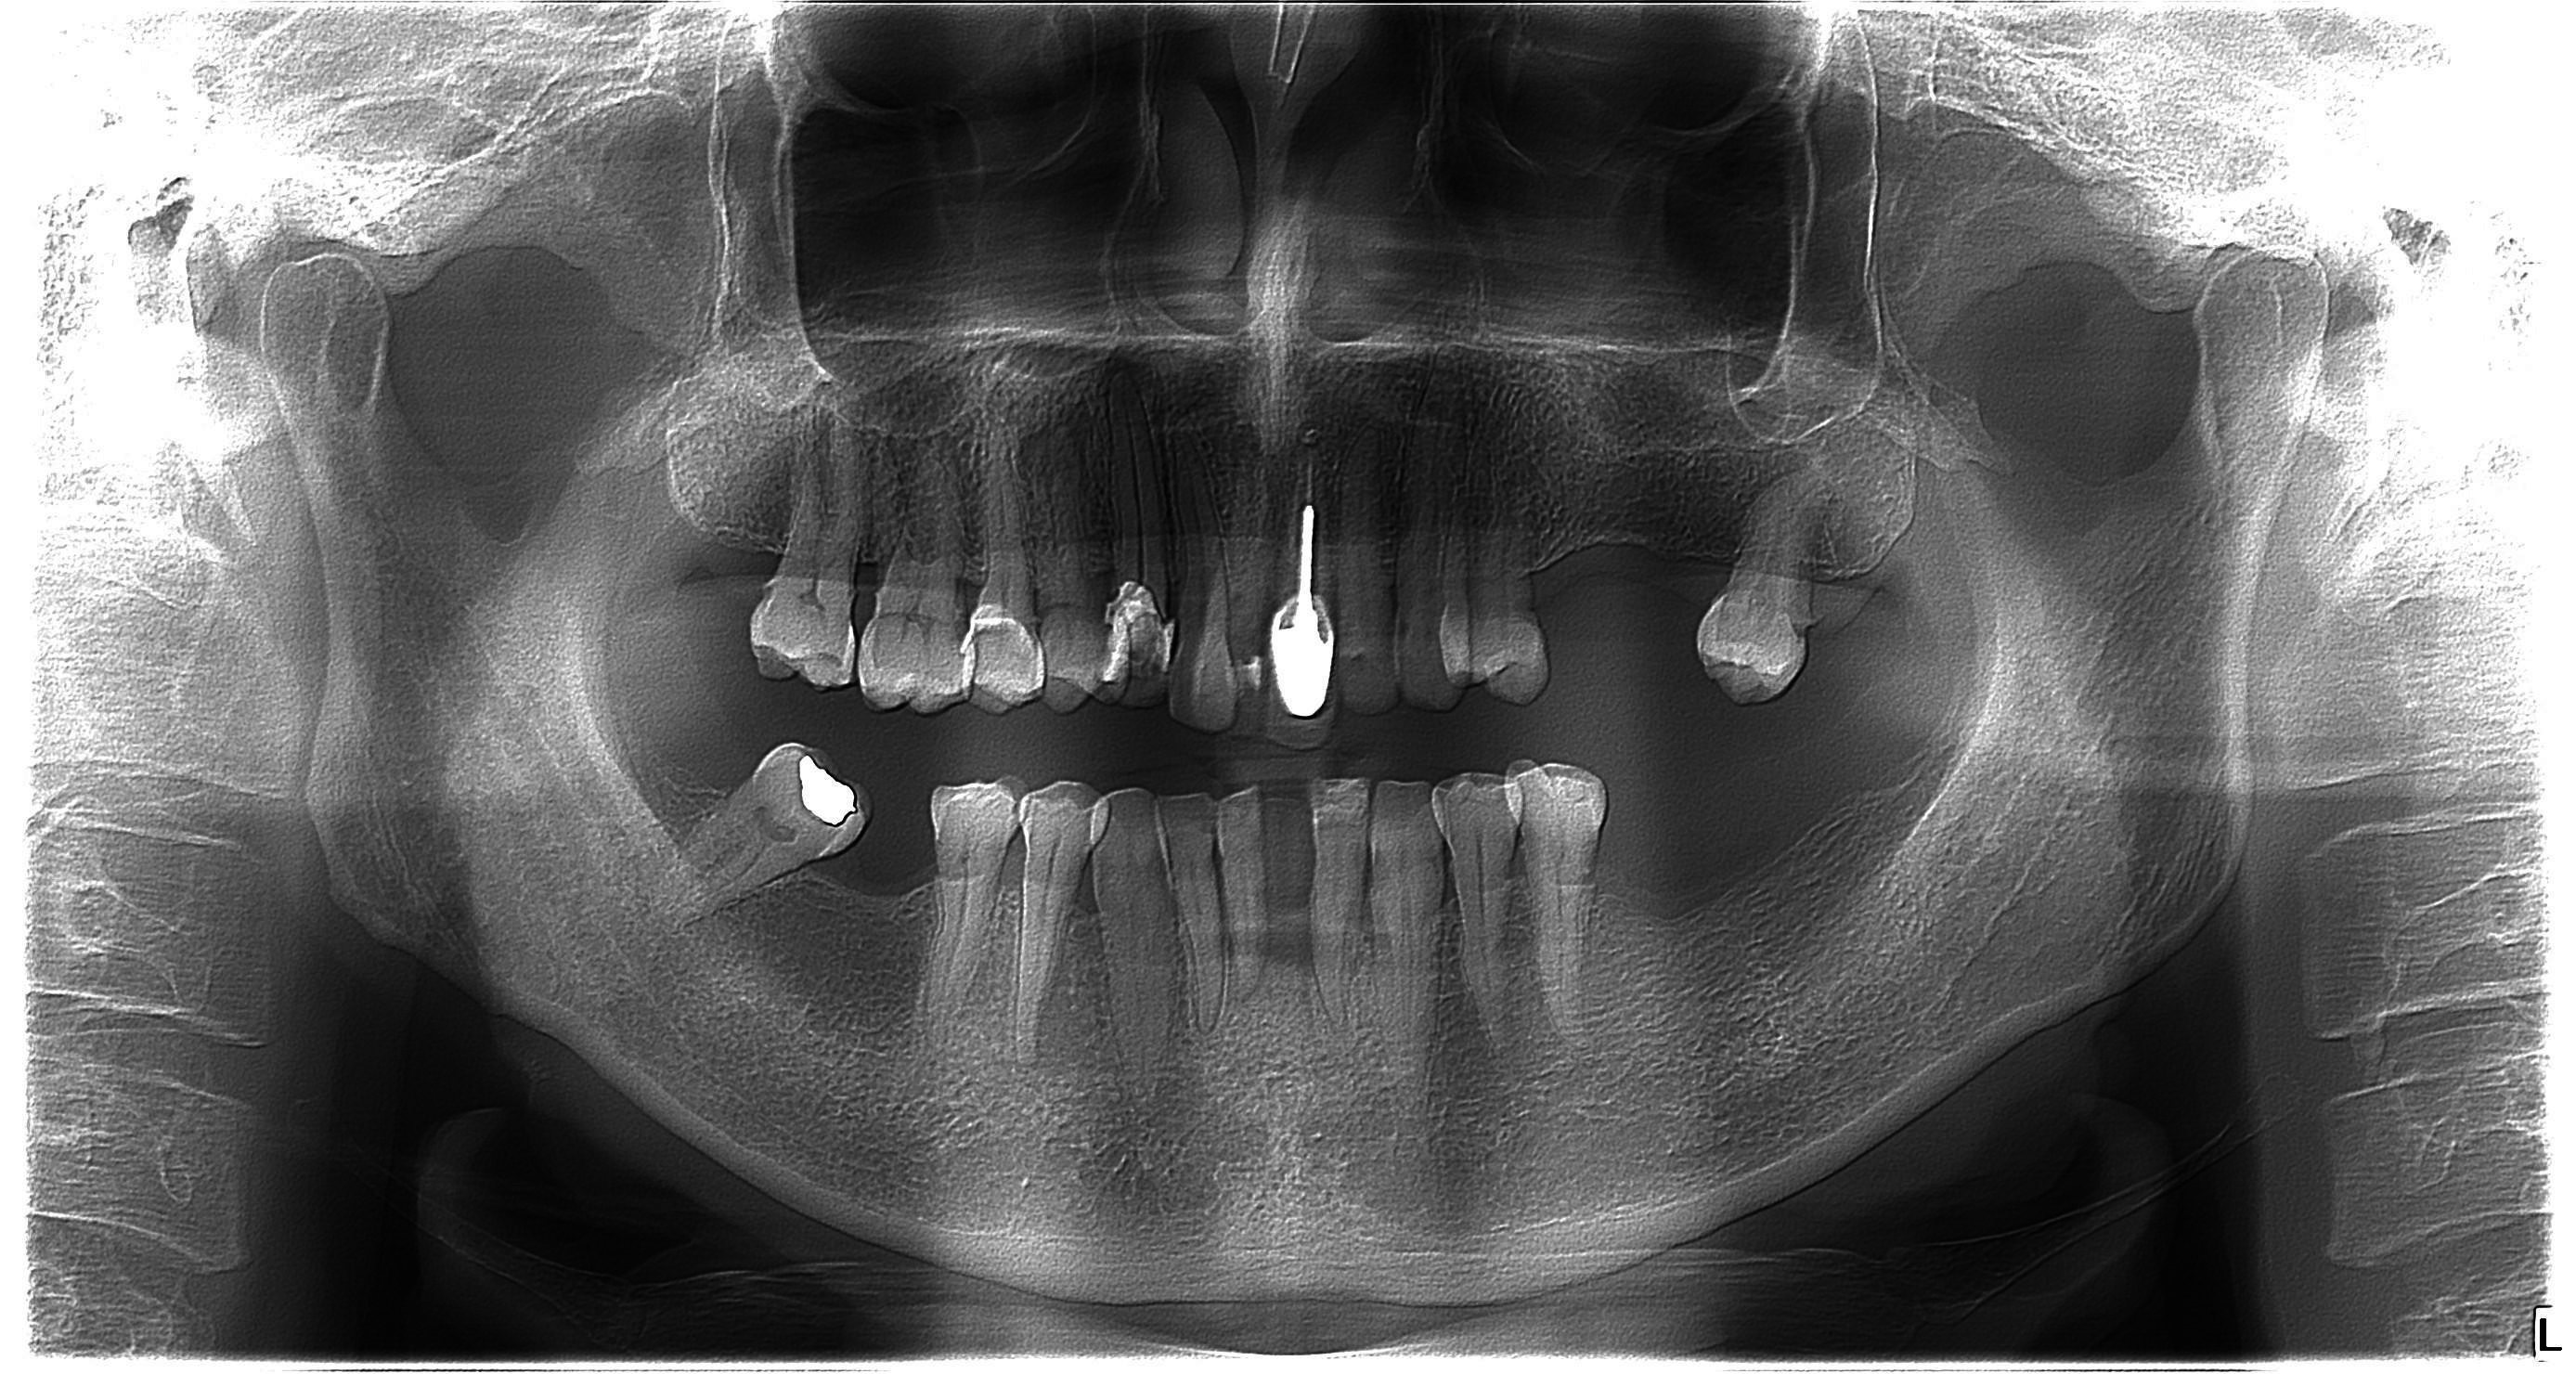Individual Tooth: (666, 743, 870, 927), (1698, 455, 1837, 706), (857, 438, 977, 716), (750, 389, 861, 690), (1439, 424, 1549, 702), (1501, 761, 1604, 1045), (1397, 348, 1476, 718), (1095, 370, 1179, 714), (1034, 420, 1131, 716), (1092, 789, 1183, 1082), (1014, 781, 1110, 1048), (959, 430, 1045, 717), (1260, 439, 1340, 747), (927, 779, 1025, 1030), (1431, 773, 1519, 1043), (1194, 468, 1274, 741), (1370, 782, 1443, 1081), (1171, 433, 1239, 735), (1337, 428, 1399, 716), (1309, 779, 1371, 1022), (1161, 794, 1224, 1030), (1254, 781, 1316, 961), (1216, 786, 1265, 1004)
